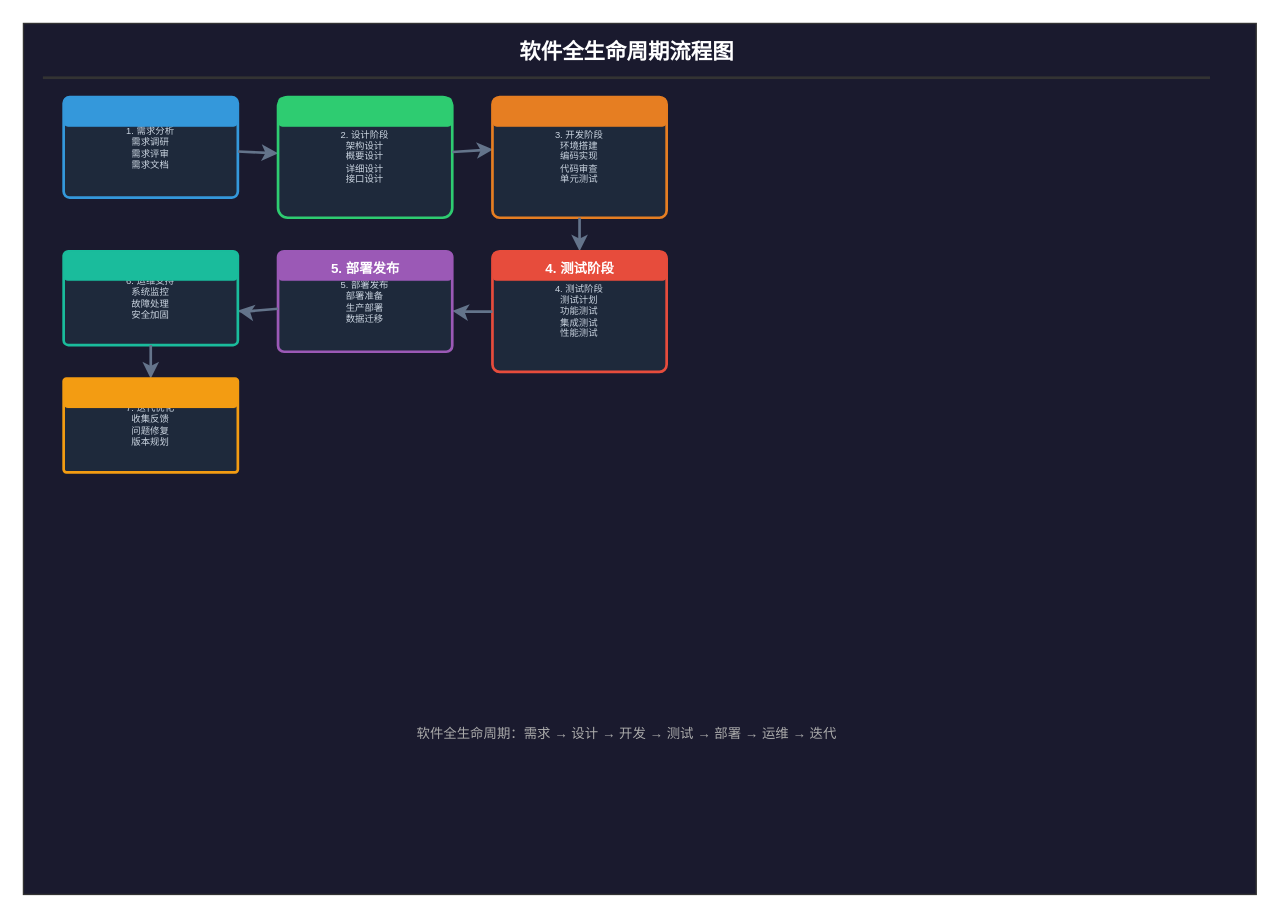
The diagram is 1280 pixels wide and 918 high, and some of its shapes have lost their labels. The centre of each missing label's shape, as x and y in pixels:
"1. 需求分析" goes at point 150,111.
"2. 设计阶段" goes at point 364,111.
"3. 开发阶段" goes at point 579,111.
"6. 运维支持" goes at point 150,265.
"7. 迭代优化" goes at point 150,392.
